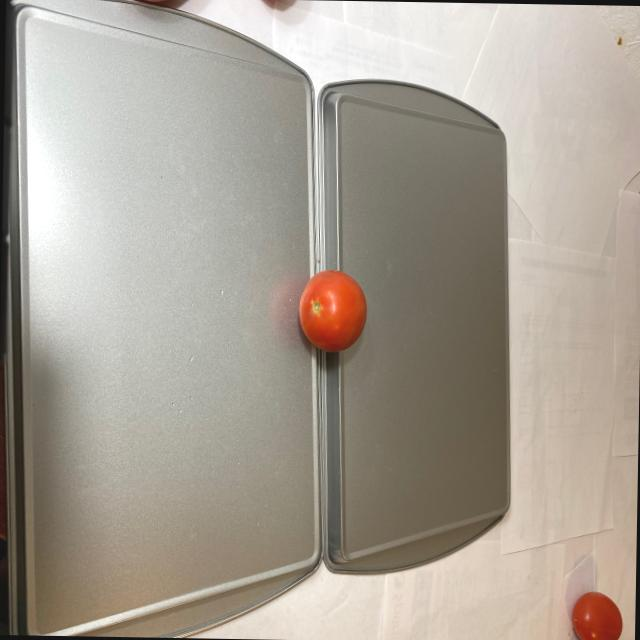tomato: (296, 262, 371, 359), (561, 585, 626, 640)
